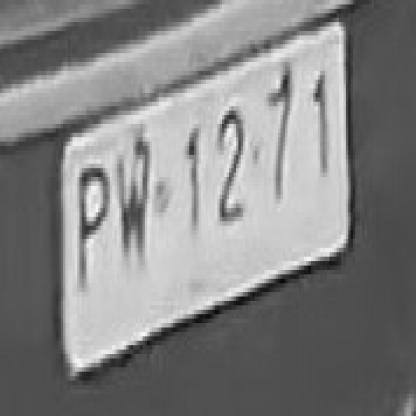Patente: (58, 21, 357, 392)
